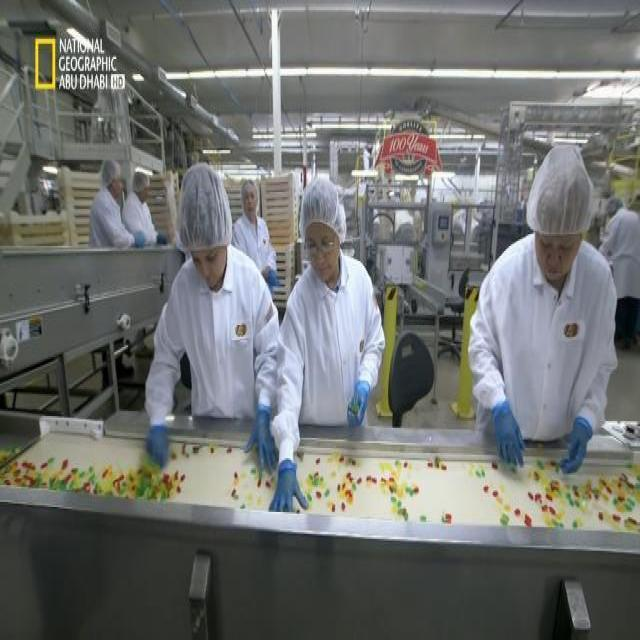gloved_hand: (490, 397, 531, 475), (557, 403, 600, 475), (270, 458, 313, 517), (241, 408, 277, 468), (344, 376, 374, 433), (137, 431, 178, 465), (132, 226, 149, 254)
